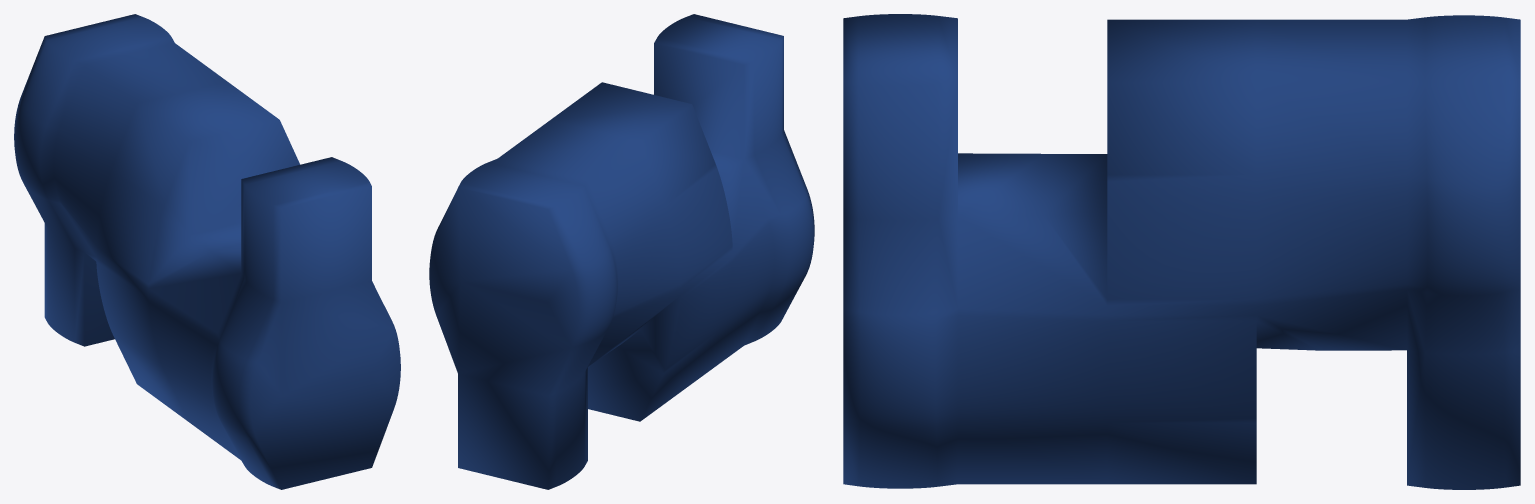
3 views of the same model, side by side, from view 1: azimuth 30°, elevation 25°; view 2: azimuth 150°, elevation 25°; view 3: azimuth 270°, elevation 25° (orthographic). The views are drawn at different scales.
Parts seen in each view (by area): view 1: Cube; view 2: Cube; view 3: Cube.
Part boxes in pixels (x1,y1,x2,y2): Cube: (14, 14, 400, 489); Cube: (429, 14, 814, 489); Cube: (843, 14, 1520, 489).
Size of the model in its own units: 3.79 by 5.96 by 9.06.
